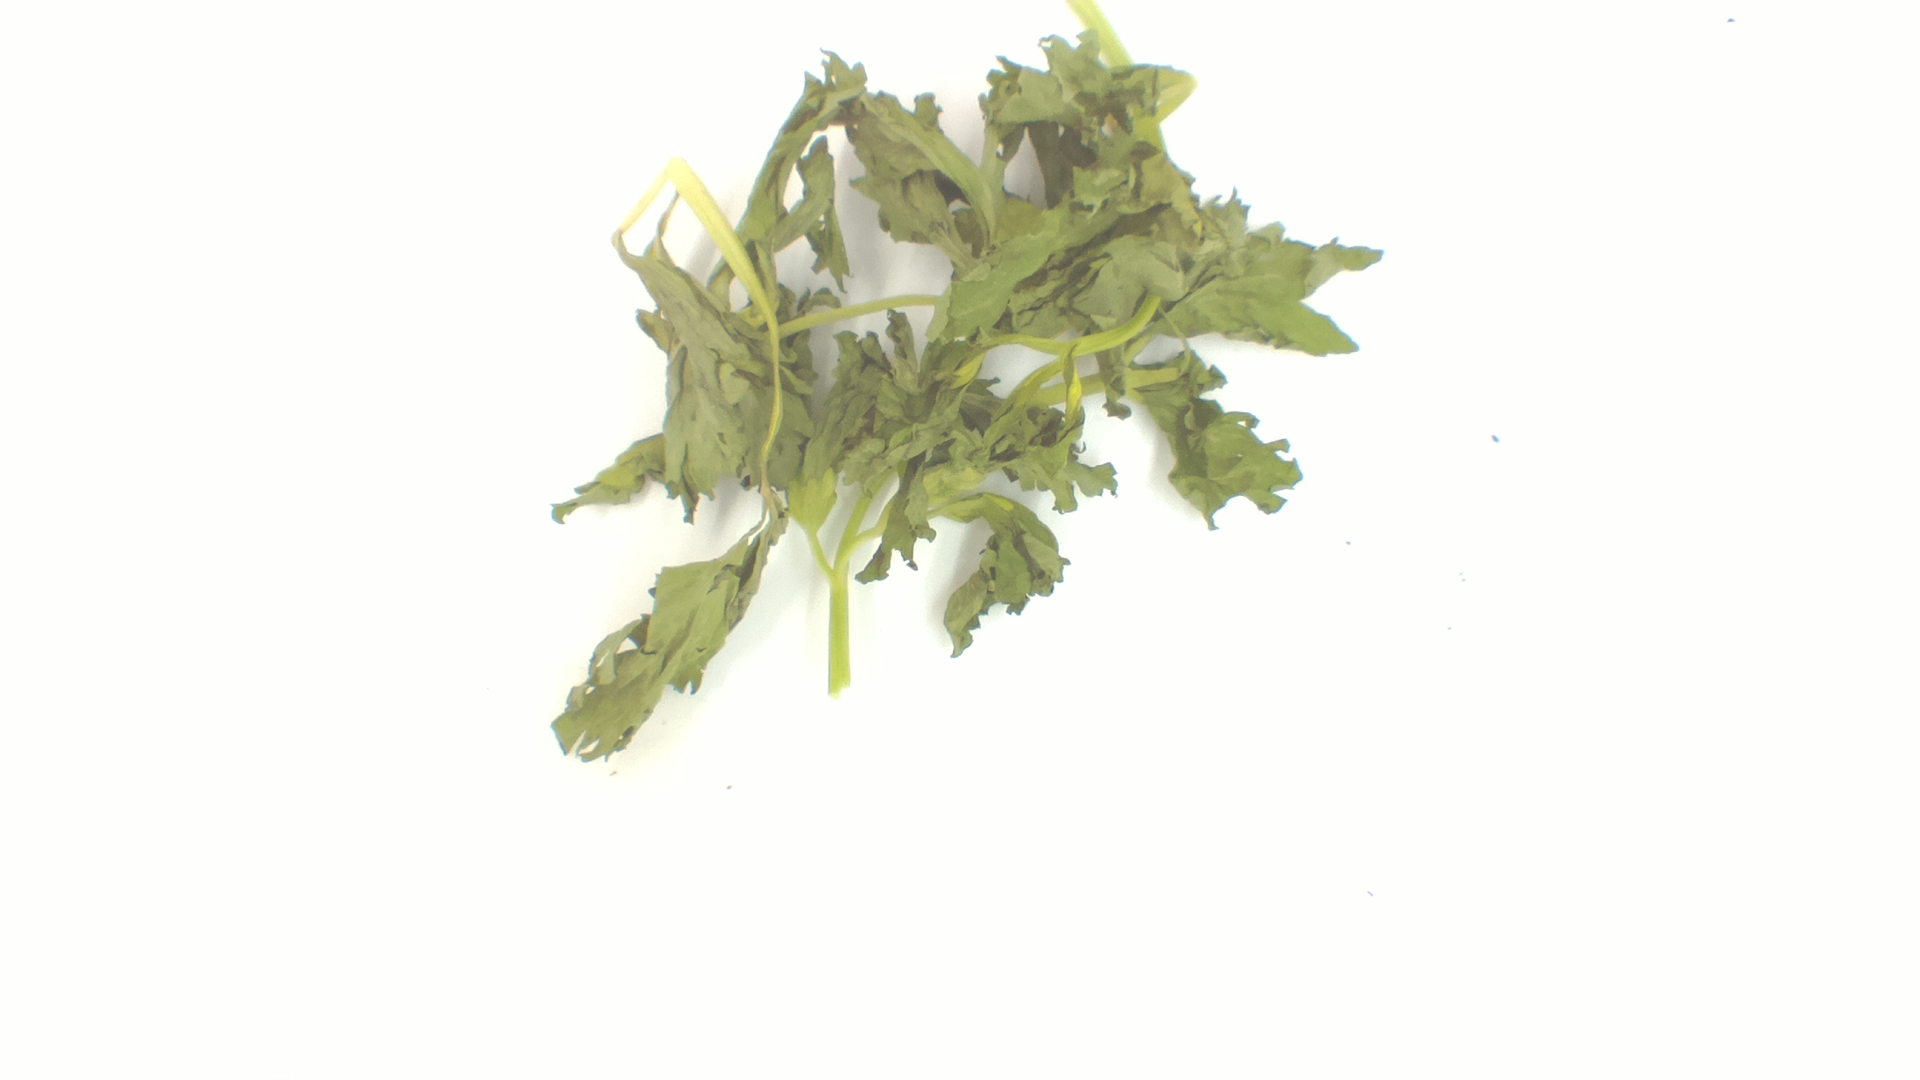vegetable: (547, 3, 1385, 760)
